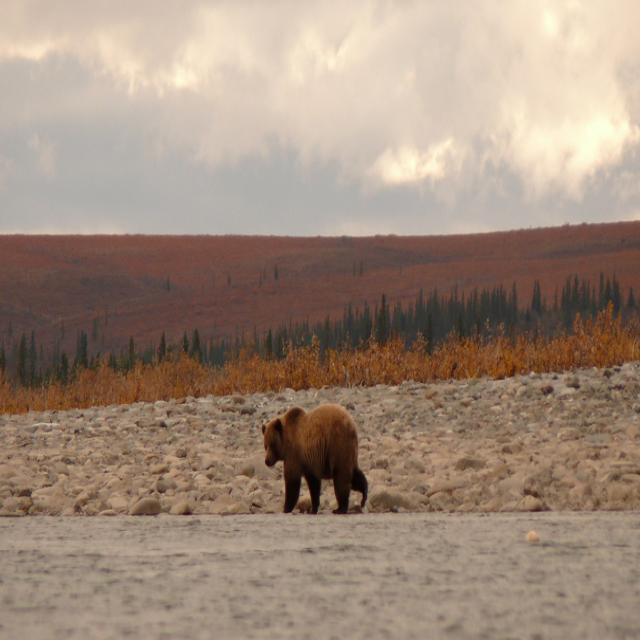Cheetahs: (260, 404, 366, 516)
